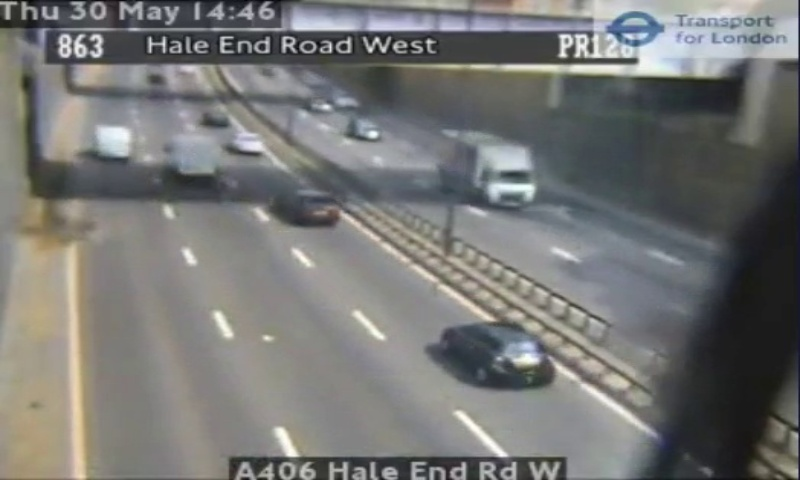car: (444, 322, 554, 384), (274, 189, 340, 224)
van: (173, 135, 219, 175), (93, 125, 131, 158)
